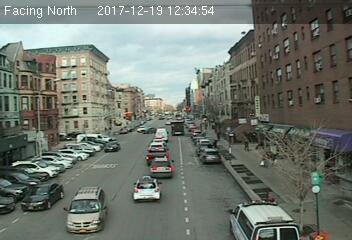car: (63, 187, 105, 234), (21, 181, 62, 209), (132, 171, 162, 201), (150, 158, 172, 177), (146, 148, 167, 162), (201, 149, 220, 163), (104, 140, 122, 152)
police: (228, 196, 297, 240)
ups: (170, 120, 185, 137)
